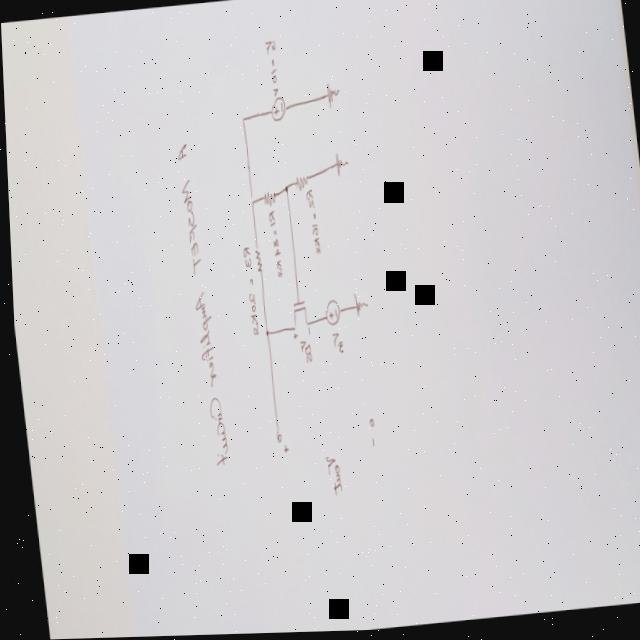ground: (323, 81, 340, 111), (331, 150, 348, 179), (349, 291, 366, 318)
junction: (247, 194, 252, 208), (260, 328, 267, 338), (281, 184, 287, 195), (239, 114, 245, 125)
resistor: (250, 246, 261, 274), (259, 190, 276, 208), (292, 173, 308, 192)
source: (266, 95, 287, 123), (320, 298, 339, 328)
terminal: (270, 427, 278, 444), (363, 417, 371, 430)
text: (173, 141, 225, 468), (239, 245, 256, 337), (301, 188, 319, 257), (265, 209, 281, 280), (262, 37, 280, 98), (319, 454, 339, 499), (294, 338, 309, 365), (326, 331, 340, 355), (278, 443, 285, 455), (365, 436, 370, 450), (288, 332, 295, 340), (302, 326, 307, 336)
transistor: (286, 299, 307, 331)
